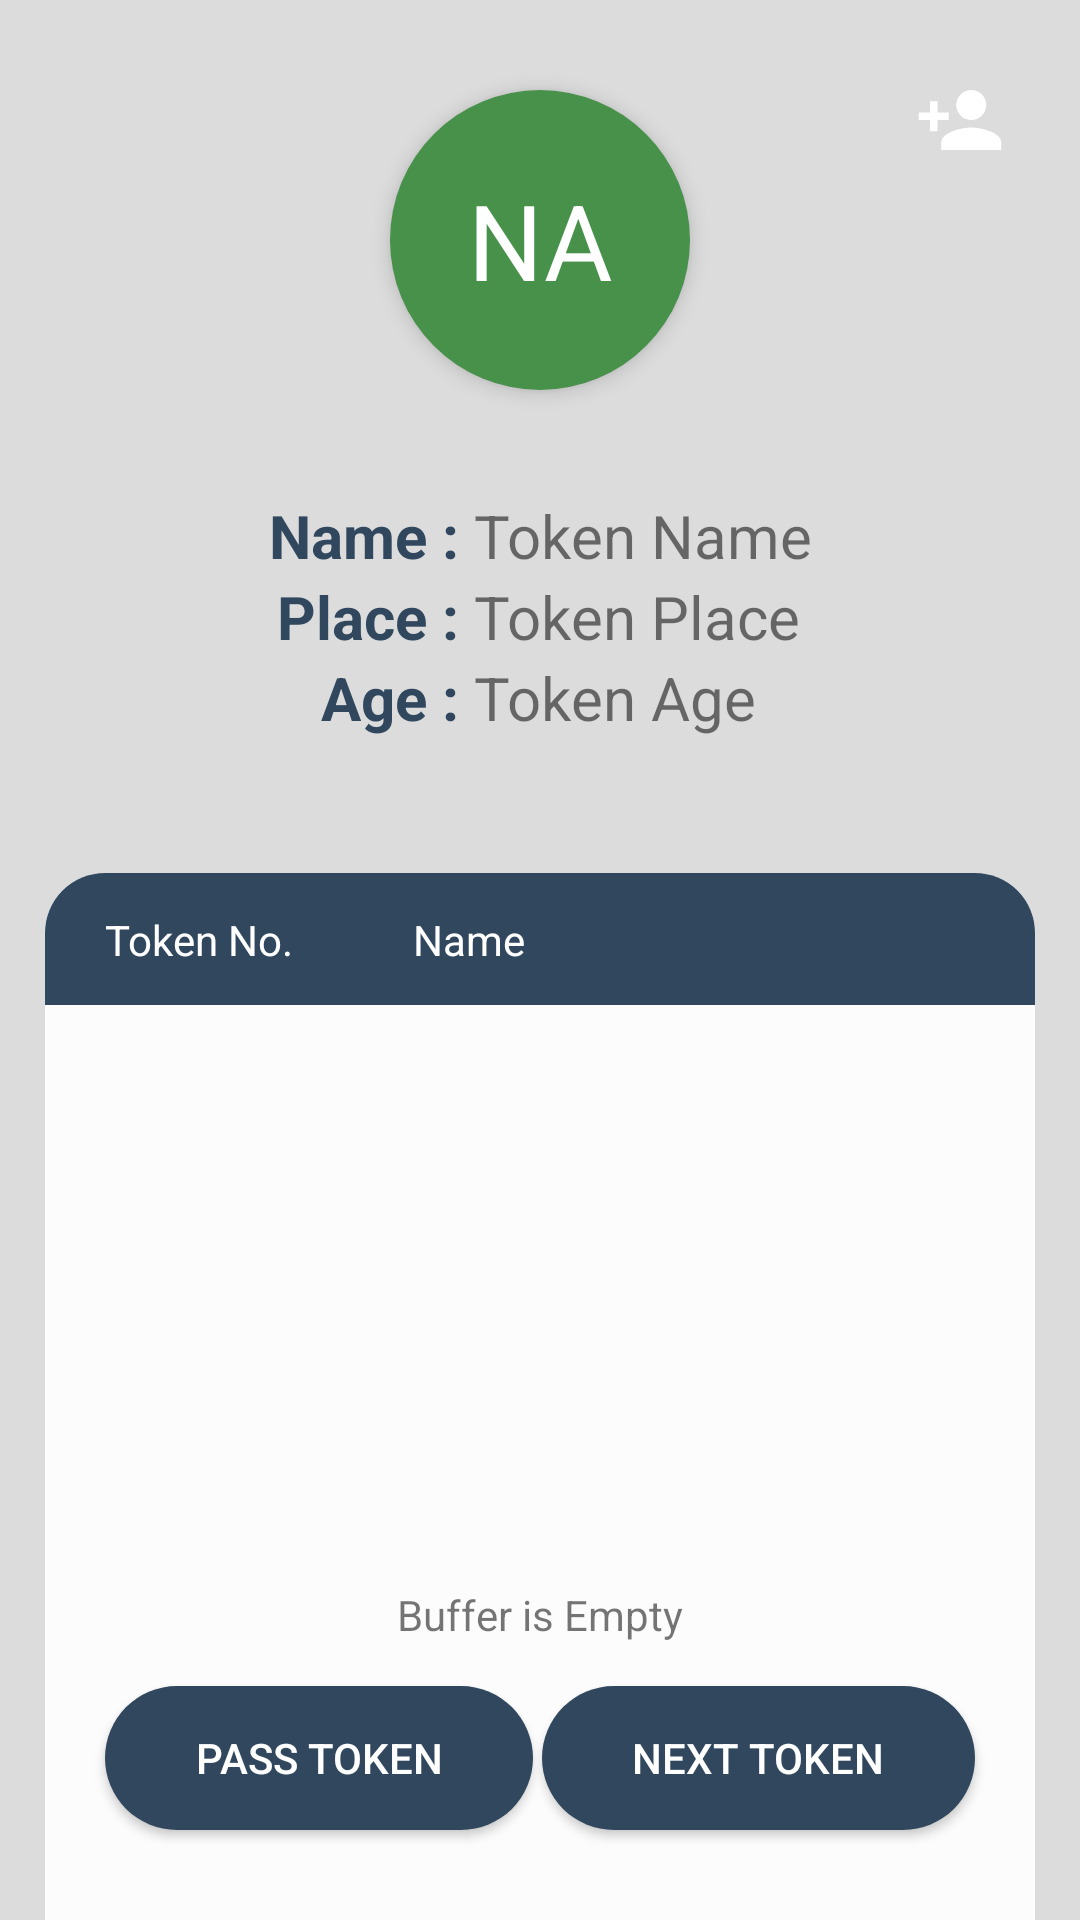

Screen size 1080w x 1920h. Icon name, then its center in pixels as (x=x, y=y):
add offline cust secondary: (x=960, y=120)
